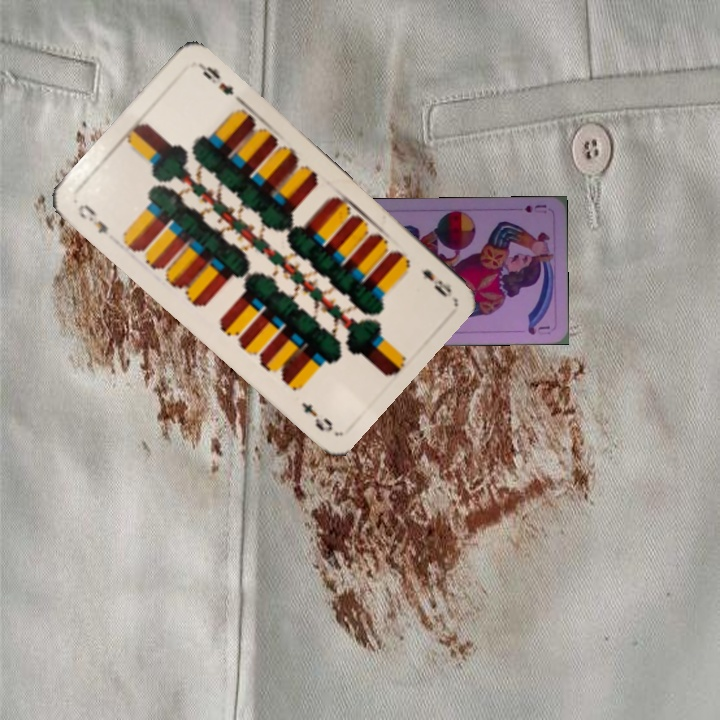E9: (73, 200, 111, 236), (417, 265, 454, 300)
SU: (520, 201, 549, 216)
